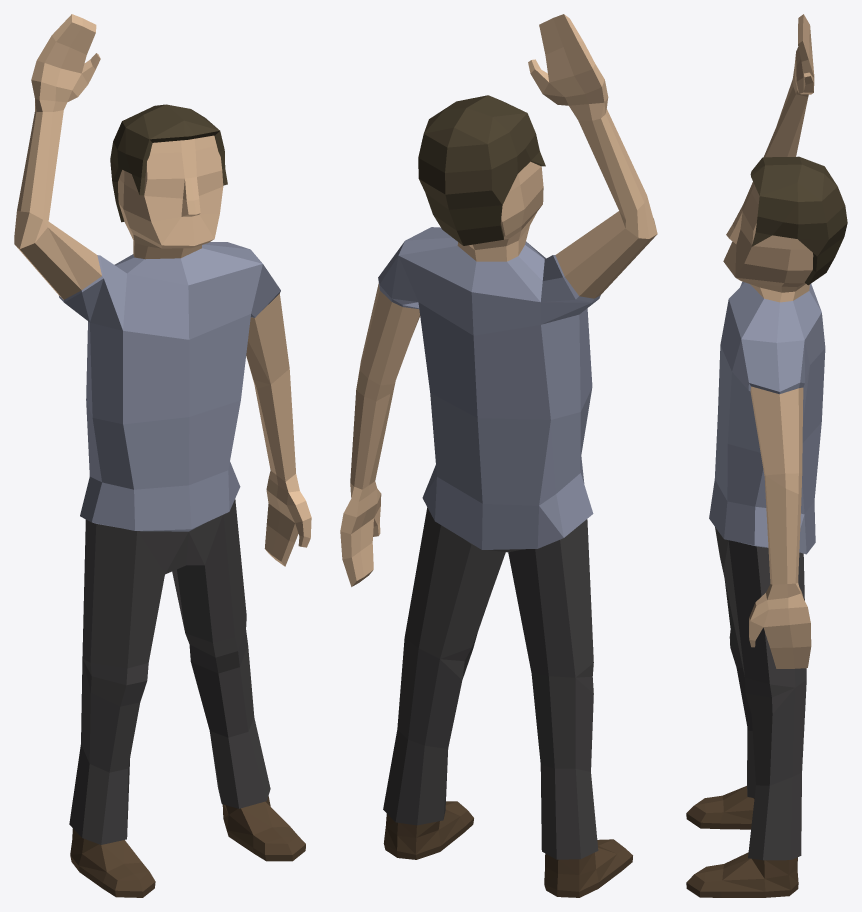
Rendered from Male_Standing_Waving.glb.
3 renders of one model, left to right at view 1: azimuth 30°, elevation 25°; view 2: azimuth 150°, elevation 25°; view 3: azimuth 270°, elevation 25°, orthographic. The views are drawn at different scales.
Parts seen in each view (by area): view 1: Male_Standing_Waving; view 2: Male_Standing_Waving; view 3: Male_Standing_Waving.
Boxes of the visible parts, x1,y1,x2,y2 form: Male_Standing_Waving: (14, 14, 311, 897); Male_Standing_Waving: (340, 14, 657, 897); Male_Standing_Waving: (686, 14, 847, 897).
Size of the model in its own units: 0.7273 by 2.08 by 0.3786.
